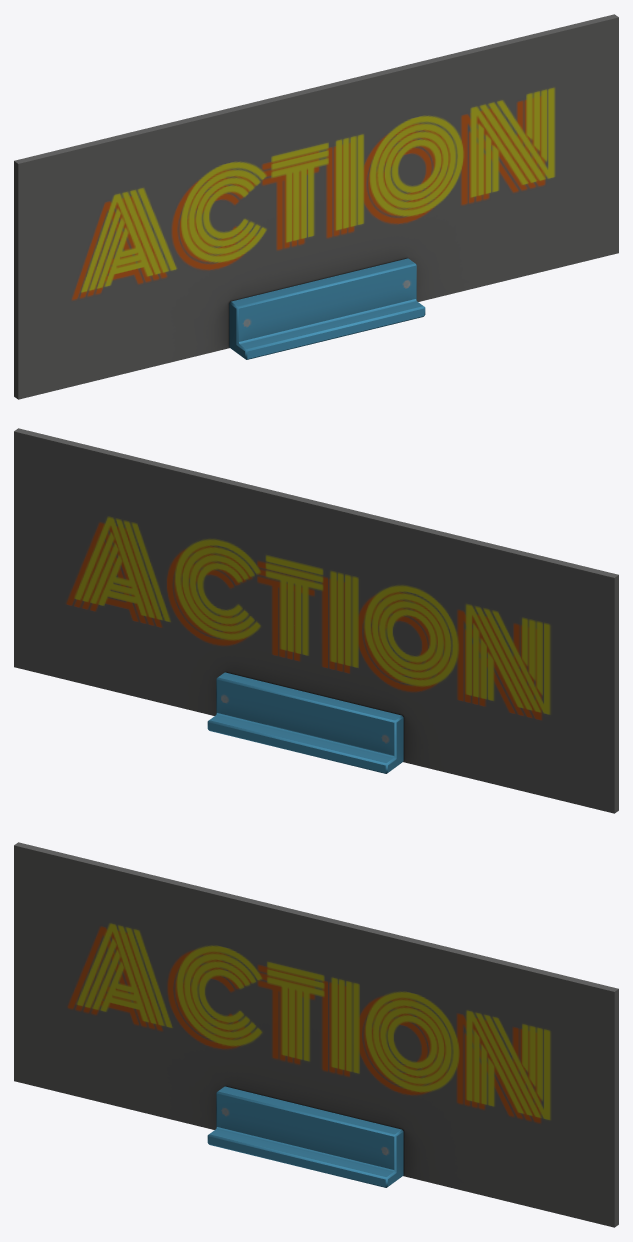
Rendered from video_store_labels_action.dae.
3 renders of one model, top to bottom at view 1: azimuth 30°, elevation 25°; view 2: azimuth 150°, elevation 25°; view 3: azimuth 330°, elevation 25°, orthographic.
Parts seen in each view (by area): view 1: Mesh6_Group9_Group6_Group1_Model; view 2: Mesh6_Group9_Group6_Group1_Model; view 3: Mesh6_Group9_Group6_Group1_Model.
Part boxes in pixels (left/top/right/bottom): Mesh6_Group9_Group6_Group1_Model: left=14, top=14, right=618, bottom=399; Mesh6_Group9_Group6_Group1_Model: left=14, top=428, right=618, bottom=813; Mesh6_Group9_Group6_Group1_Model: left=14, top=842, right=618, bottom=1227.
Bounding box in the file's own units: 0.4 × 0.045 × 0.15.
